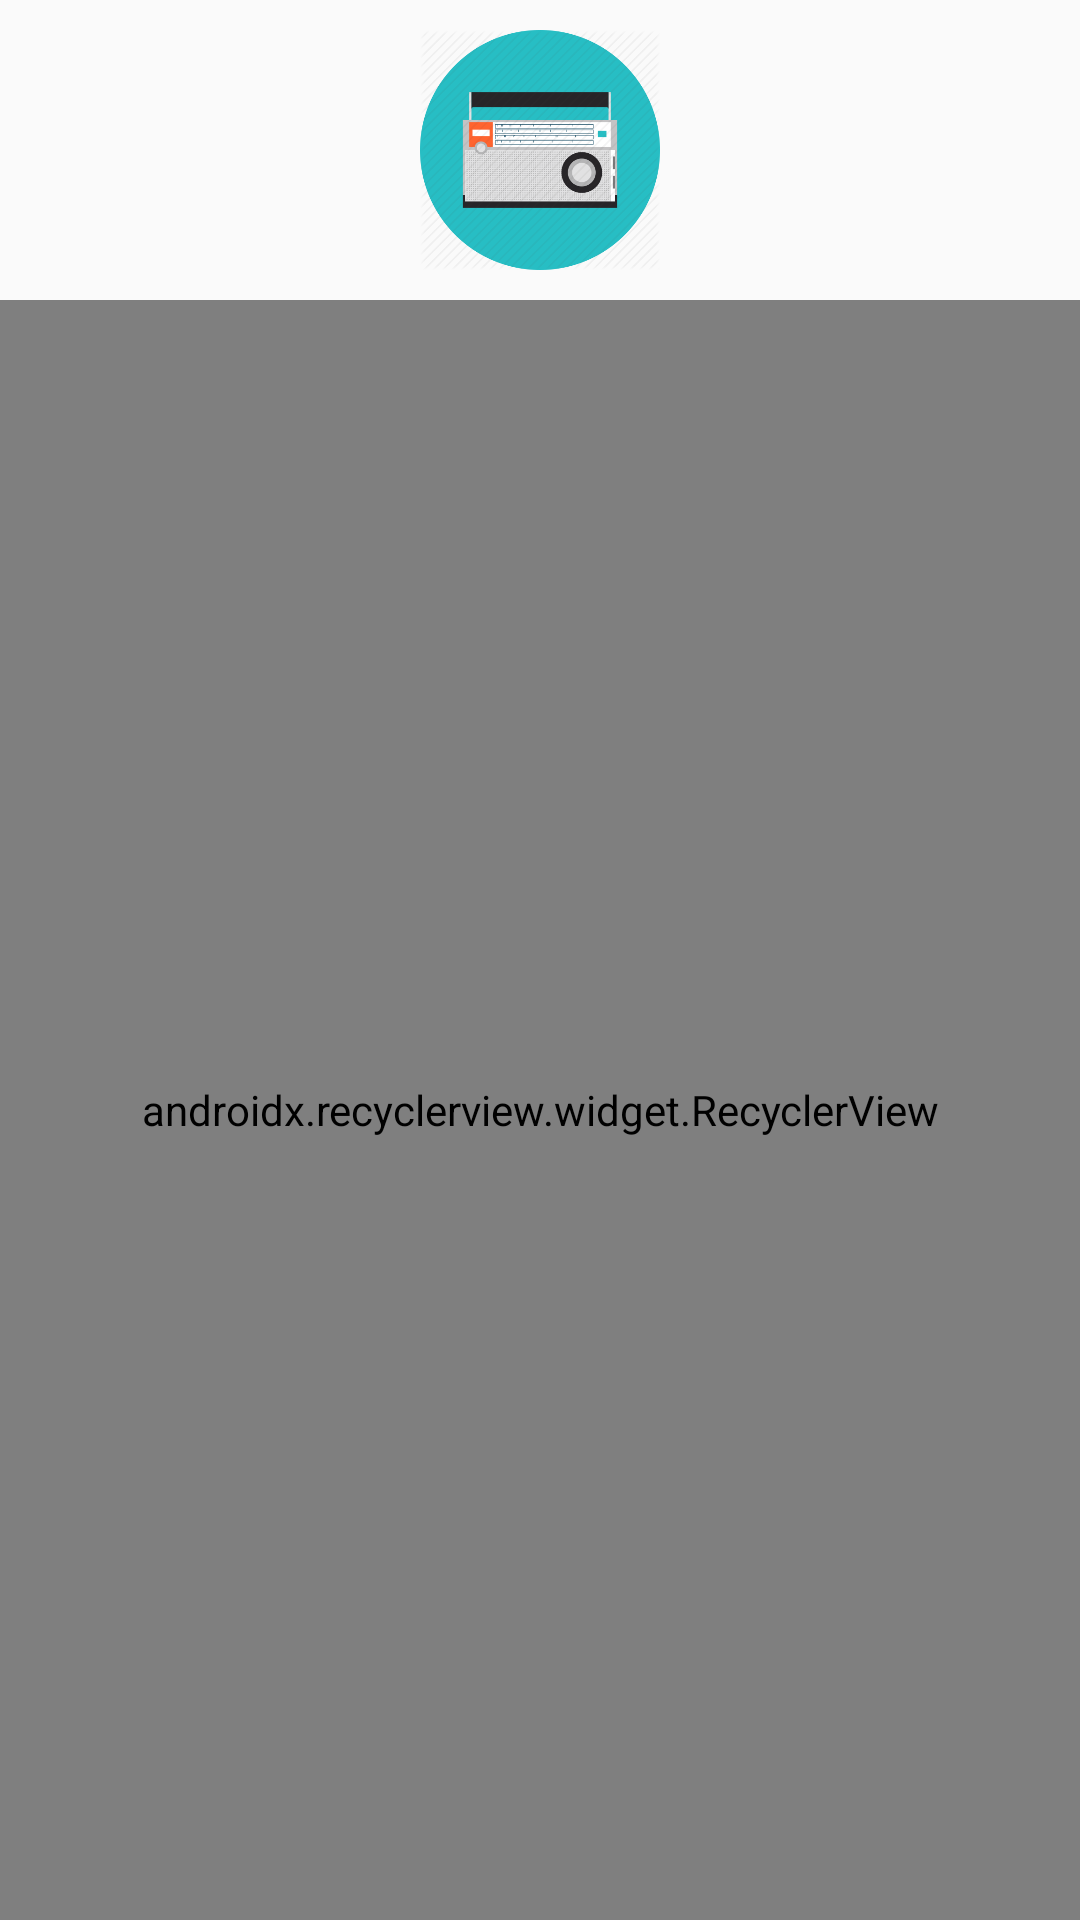

Screen size 1080*1920. Icon name, then its center in pixels as (x=x, y=y):
radio: (x=540, y=150)
